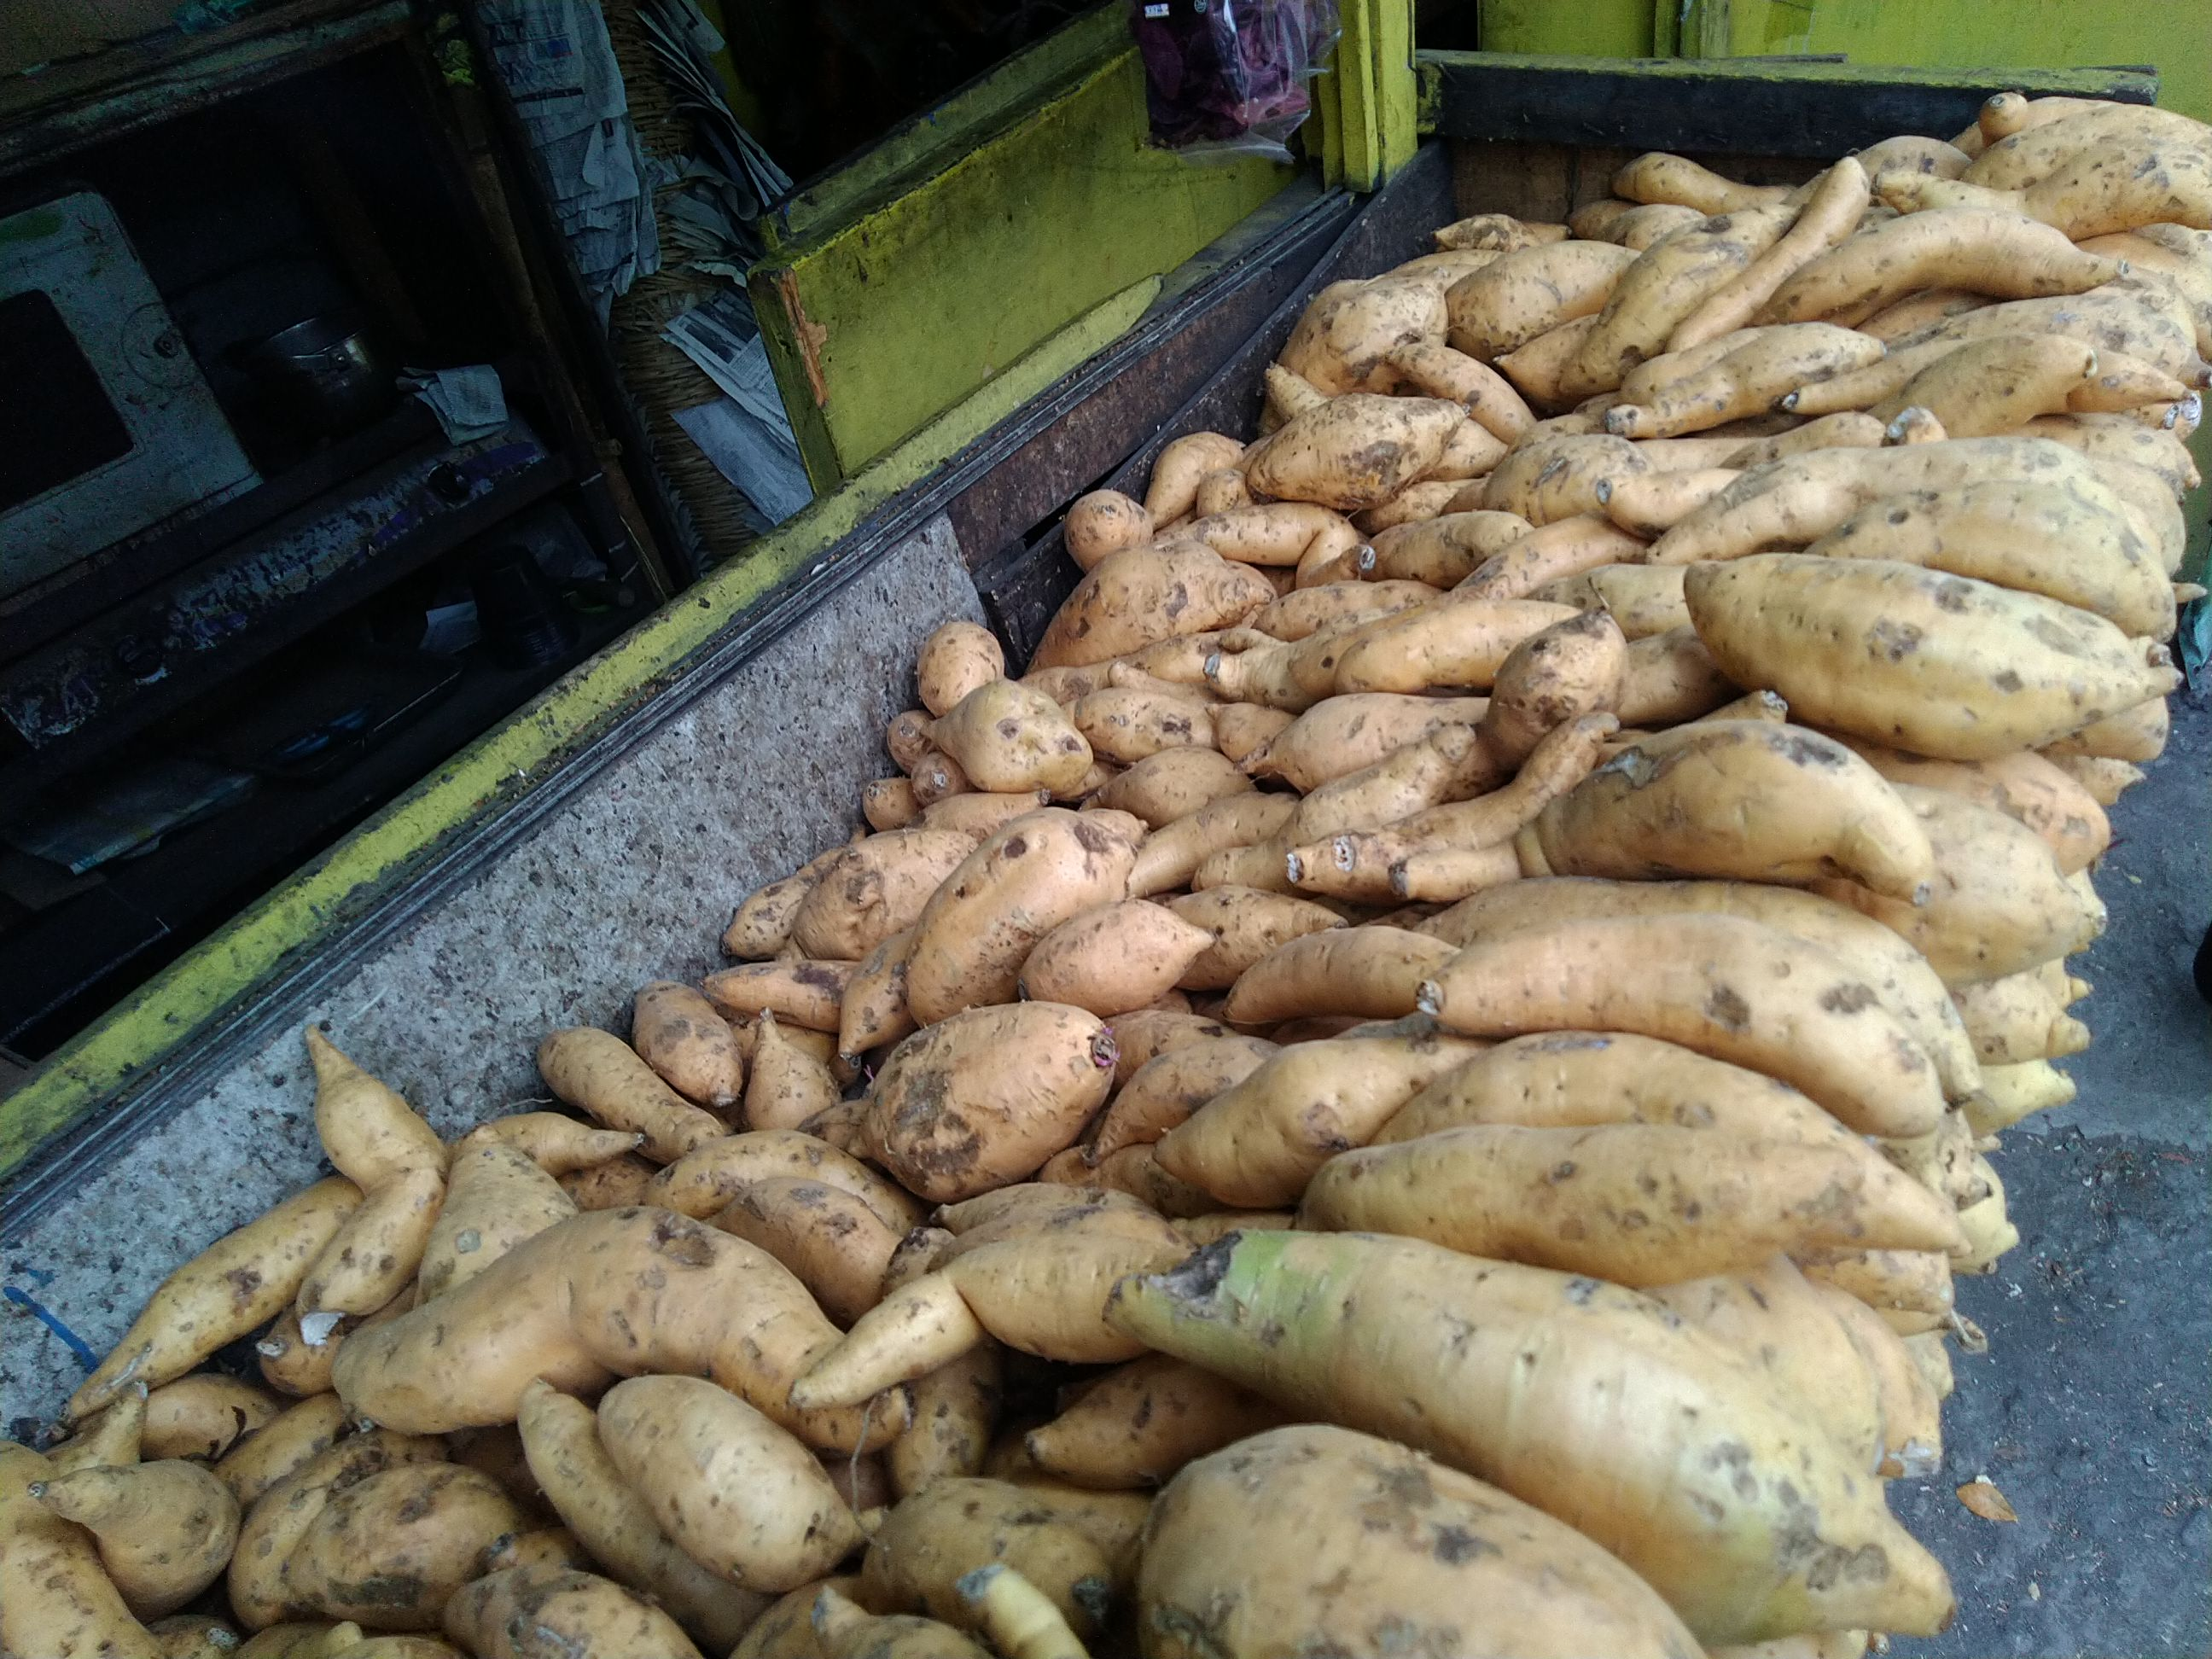ubi cilembu: (0, 786, 2003, 1656), (857, 99, 2212, 770), (1092, 1215, 1996, 1622), (1303, 1028, 1986, 1286), (320, 1208, 951, 1438), (1416, 904, 2003, 1121), (1672, 533, 2161, 755), (1510, 725, 1961, 920), (907, 798, 1146, 1035), (840, 988, 1122, 1185), (1759, 209, 2137, 333), (1604, 305, 1892, 451), (1015, 540, 1277, 680), (1480, 592, 1642, 777), (528, 1012, 726, 1161), (1244, 389, 1472, 498), (1022, 889, 1209, 1012), (923, 681, 1104, 807), (1271, 272, 1439, 382)
